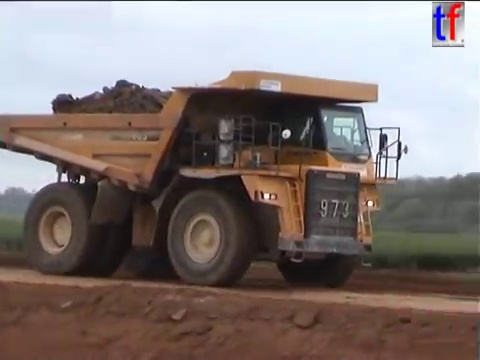truck: (1, 67, 410, 290)
